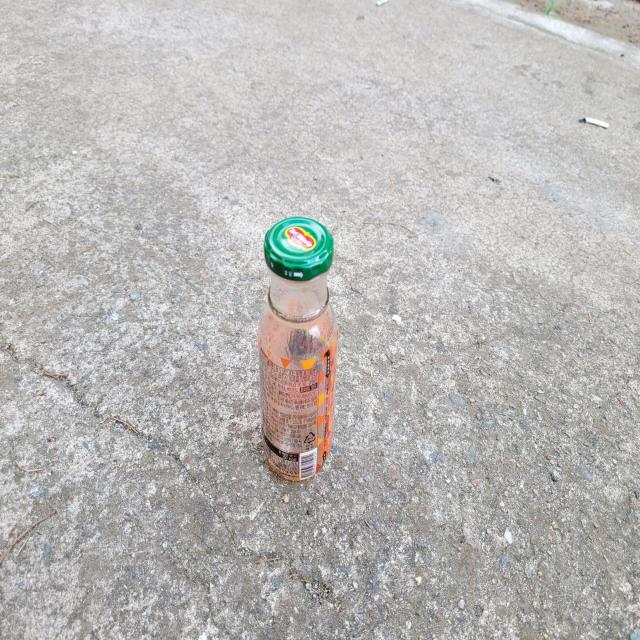glass: (258, 216, 339, 481)
